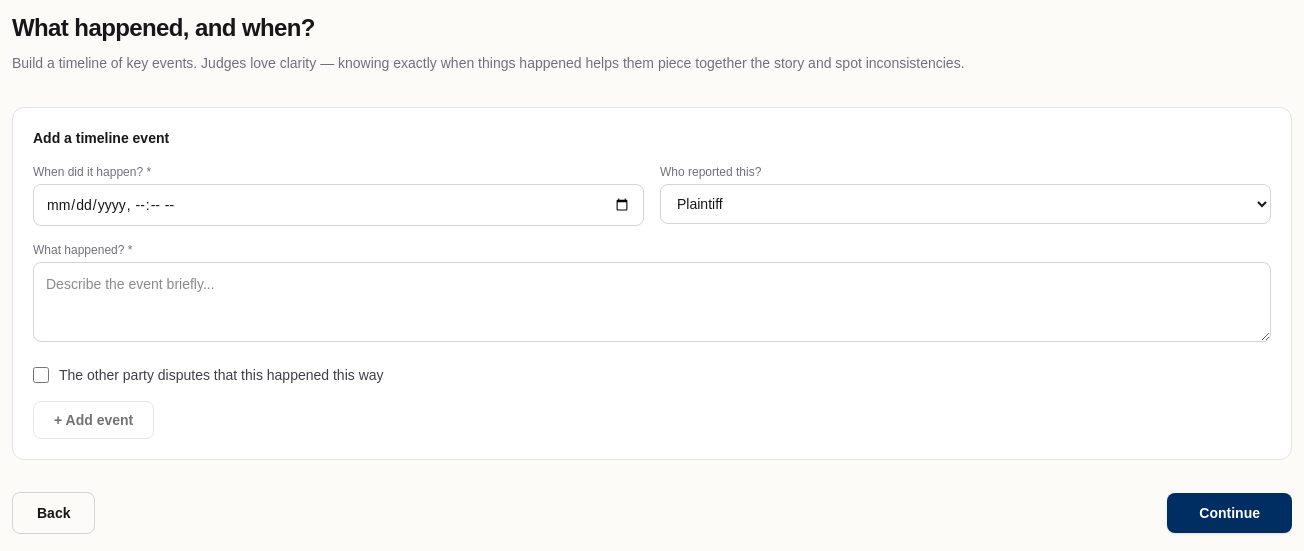
Test case: TimelineStep › enables add button when both date and description are filled
The width and height of the screenshot is (1304, 551).
Type "2025-01-15T10:00" into the field labelled "When did it happen? *" at (338, 205), box [33,184,644,226]
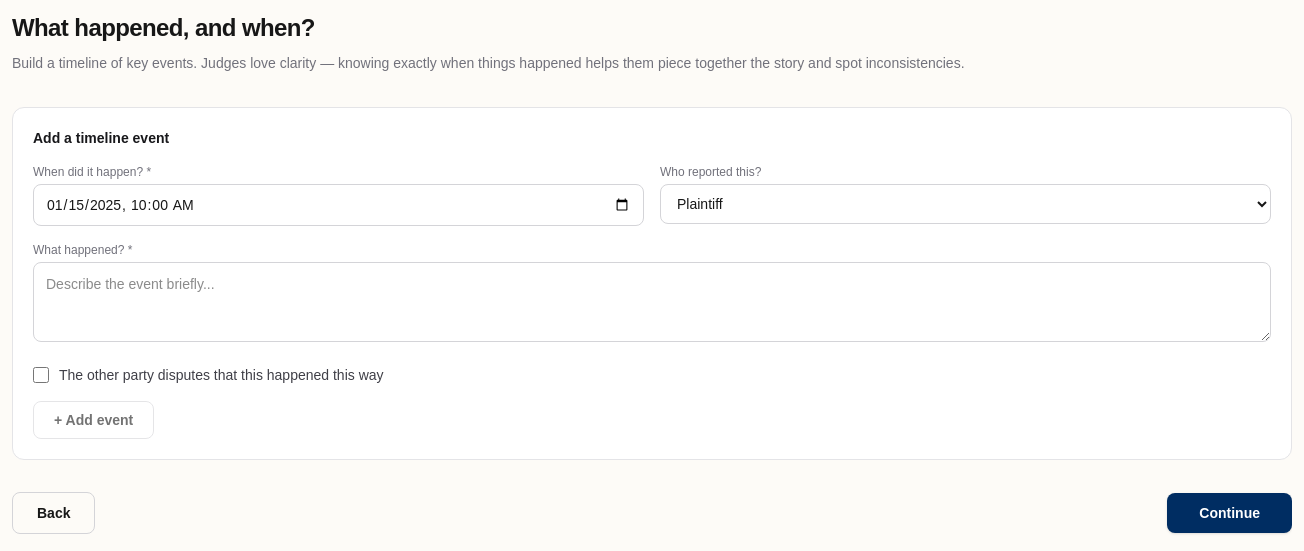
Type "Lease signed" into the text box with placeholder "Describe the event briefly..." at (652, 302), box [33,262,1271,342]
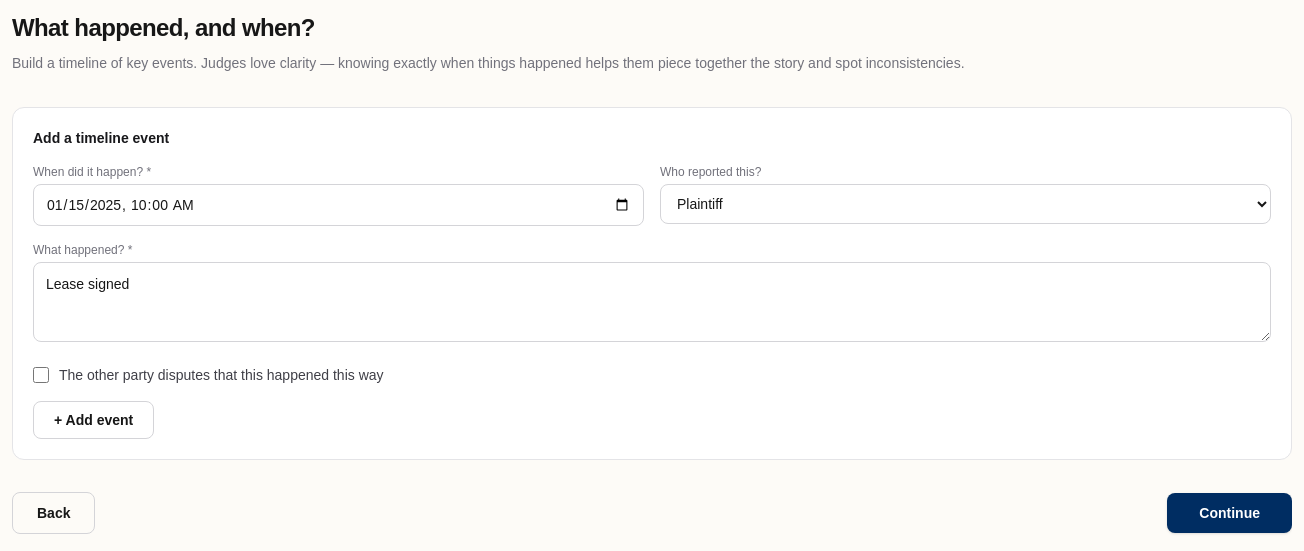
Expected: the button "+ Add event" is enabled, [33,401,154,439]
